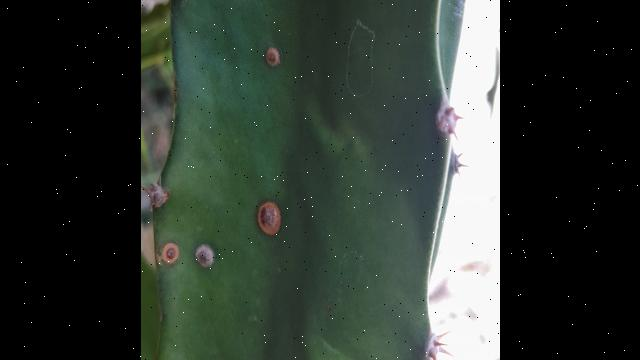stemcanker: (161, 242, 226, 270), (255, 200, 287, 241), (260, 43, 287, 72)
